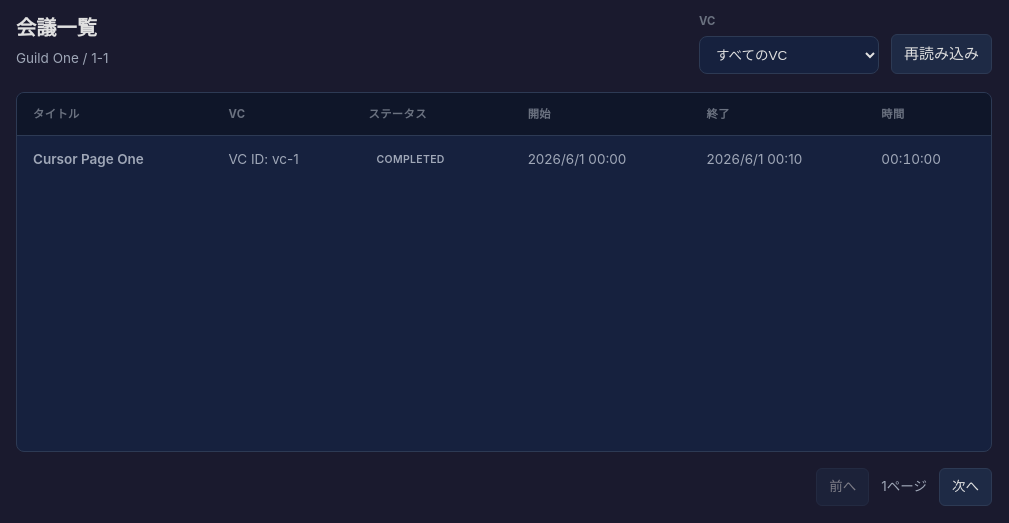
Test: App access controls › uses meeting cursors for dashboard next and previous navigation
Expected: the link "Cursor Page One" is shown, [33, 151, 144, 167]
Click the button "次へ".
click(966, 487)  # box [939, 468, 992, 506]
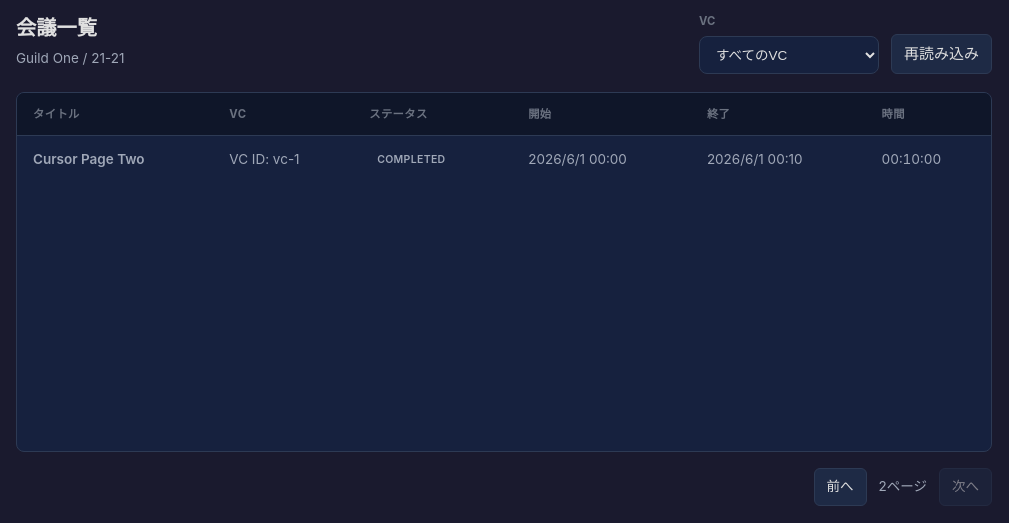
Result: the link "Cursor Page Two" is shown at [33, 151, 145, 167]
Click the button "前へ".
click(840, 487)  # box [814, 468, 866, 506]
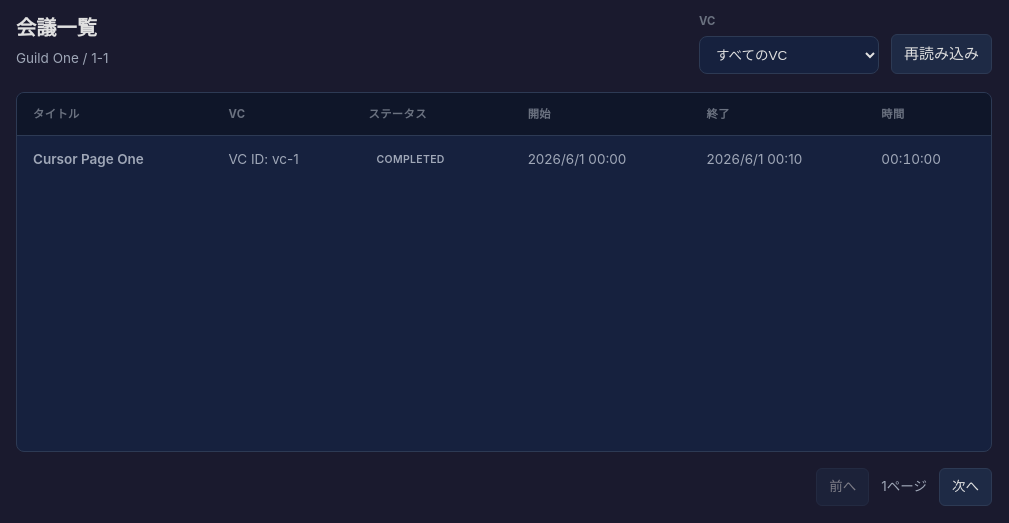
Result: the link "Cursor Page One" is shown at [33, 151, 144, 167]
